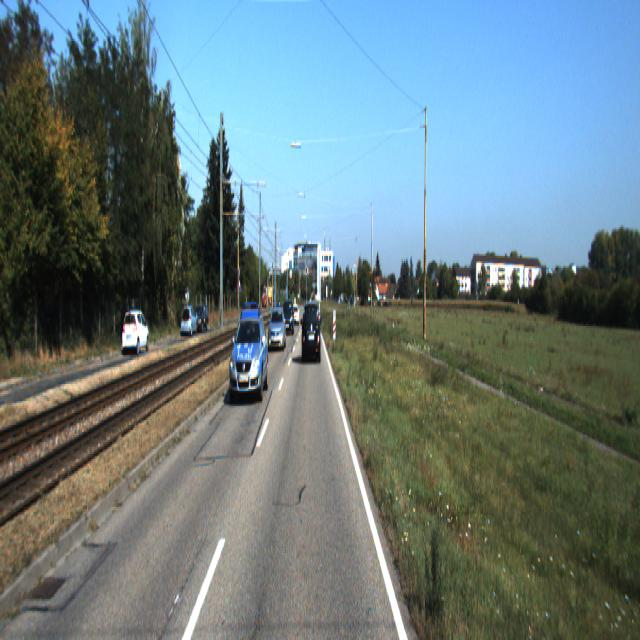Car: (230, 300, 270, 404), (122, 310, 150, 358), (302, 302, 322, 364), (268, 306, 286, 352), (180, 306, 198, 340), (192, 304, 209, 334), (282, 301, 294, 337)
